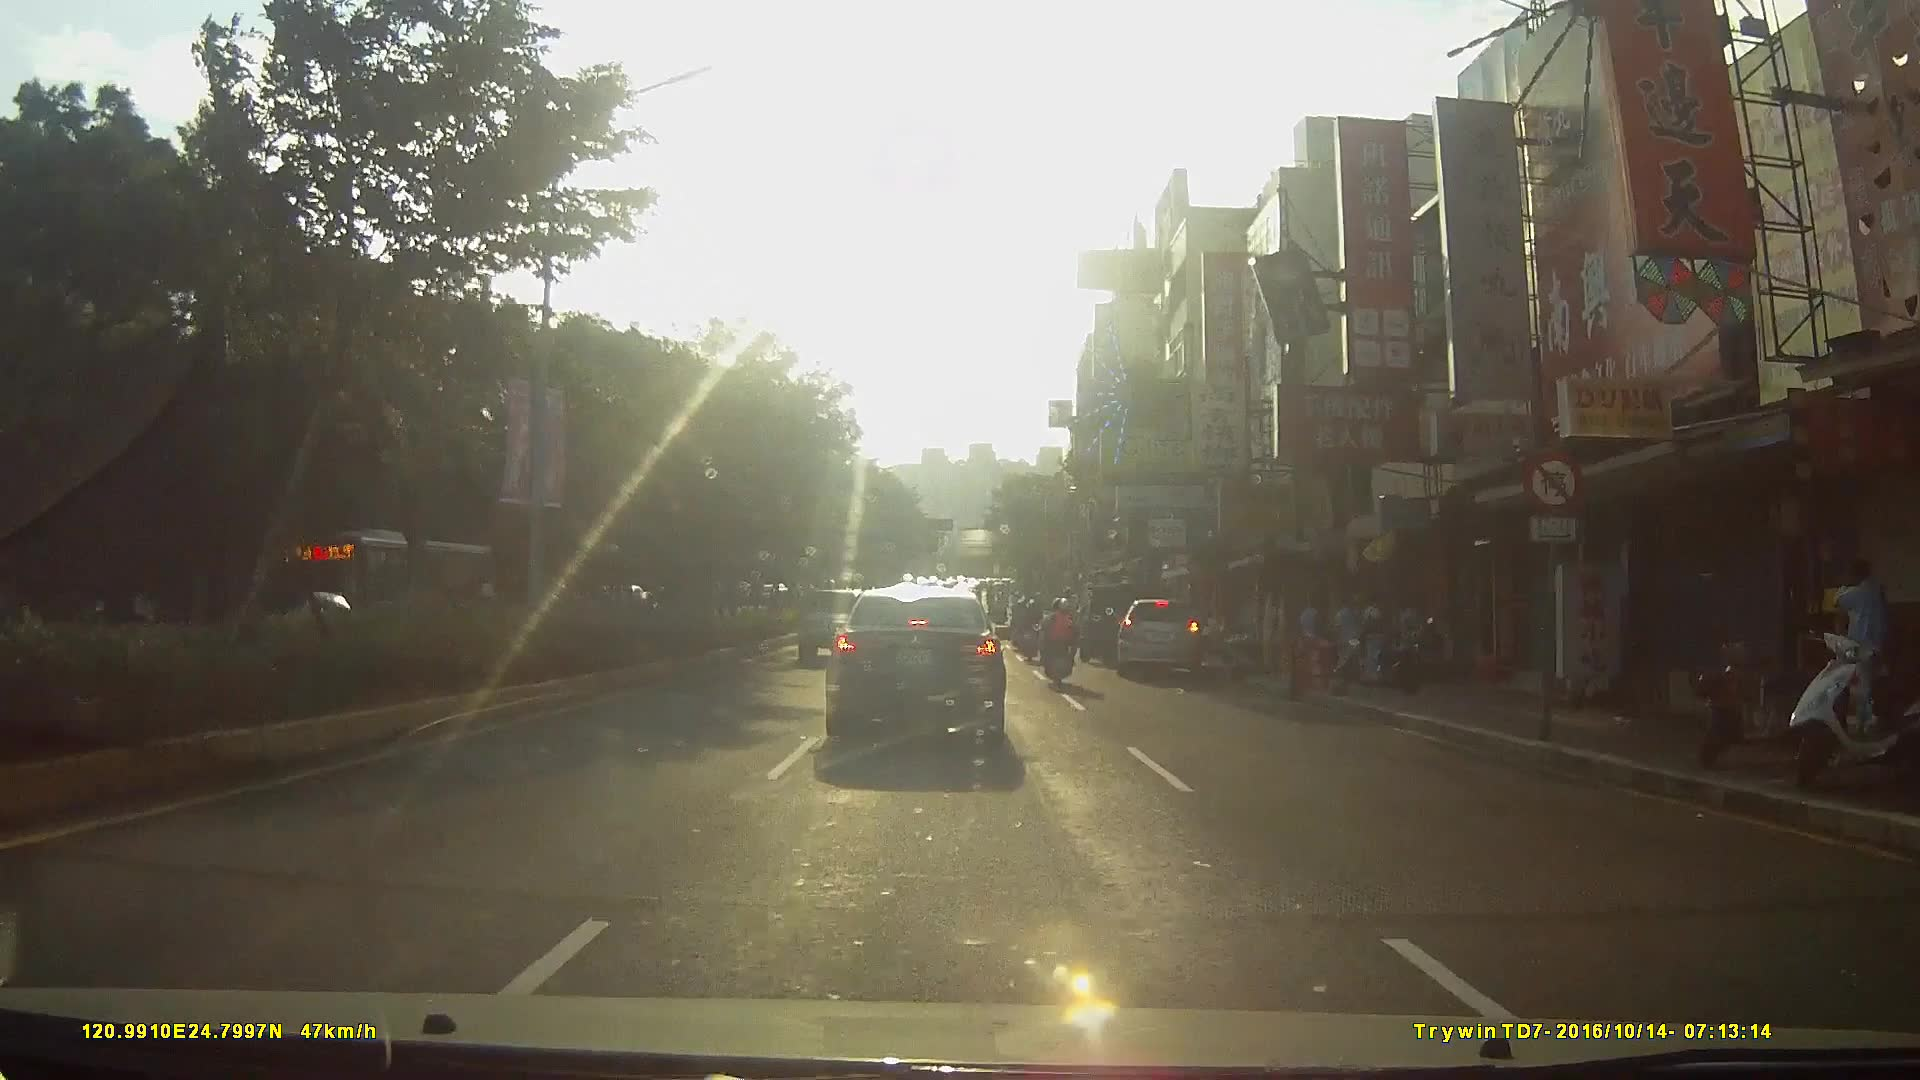pedestrian: (1829, 559, 1887, 737), (1364, 596, 1384, 655)
rider: (1045, 601, 1089, 698), (1017, 599, 1043, 663)
vehicle: (823, 588, 1031, 763), (268, 532, 496, 660), (1118, 602, 1210, 688), (1076, 578, 1155, 666)
